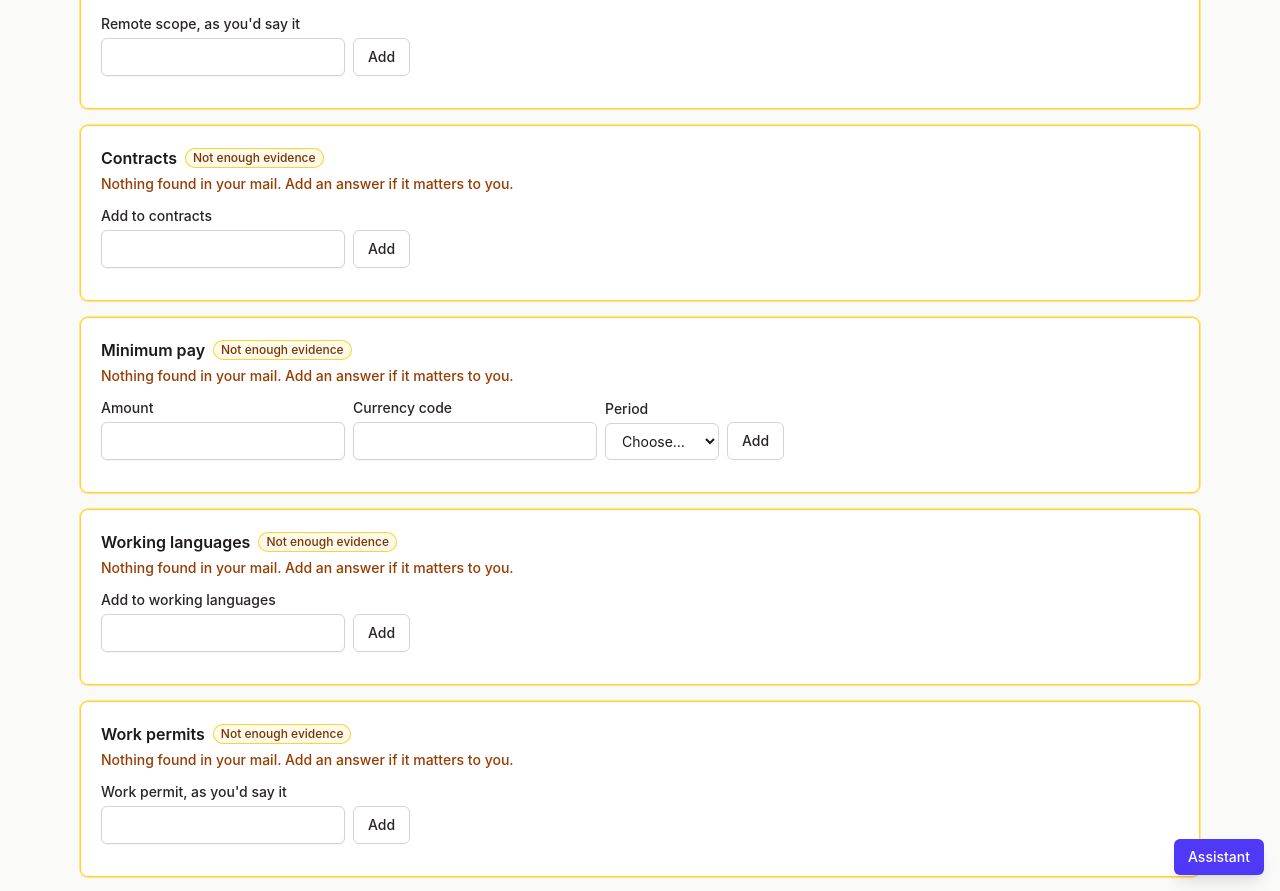
it: corrections (F6.4, S4) › choose no pay period or work mode for the user
(page scrolled)
expect the dropdown labelled "Period" shows "Choose…": met, box 605,423 -> 719,460
Type "450" into the field labelled "Amount". click: (223, 441)
box: 101,422 -> 345,460
Type "EUR" into the field labelled "Currency code". click: (475, 441)
box: 353,422 -> 597,460
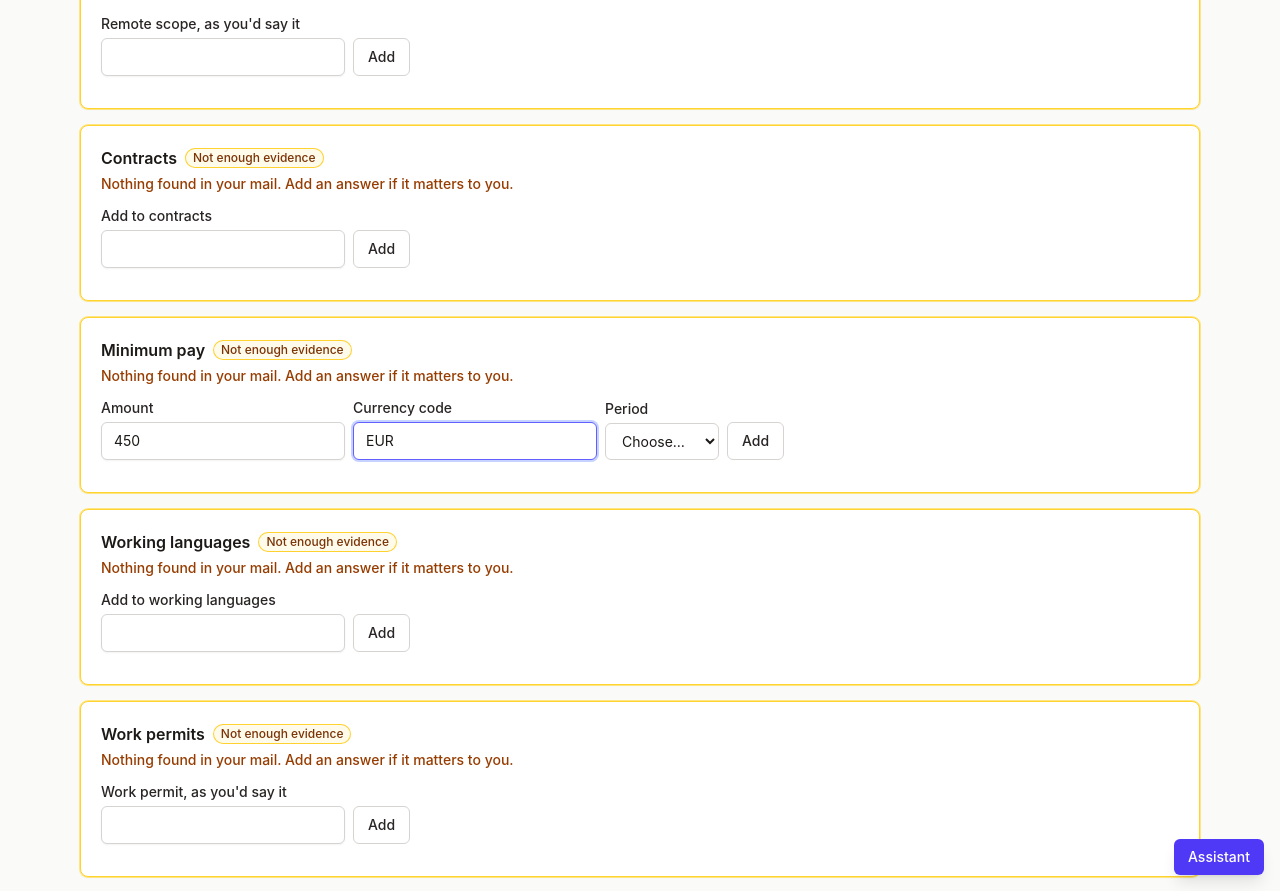
Click the button "Add" below "Period". click: (756, 441)
box: 727,422 -> 784,460
(page scrolled)
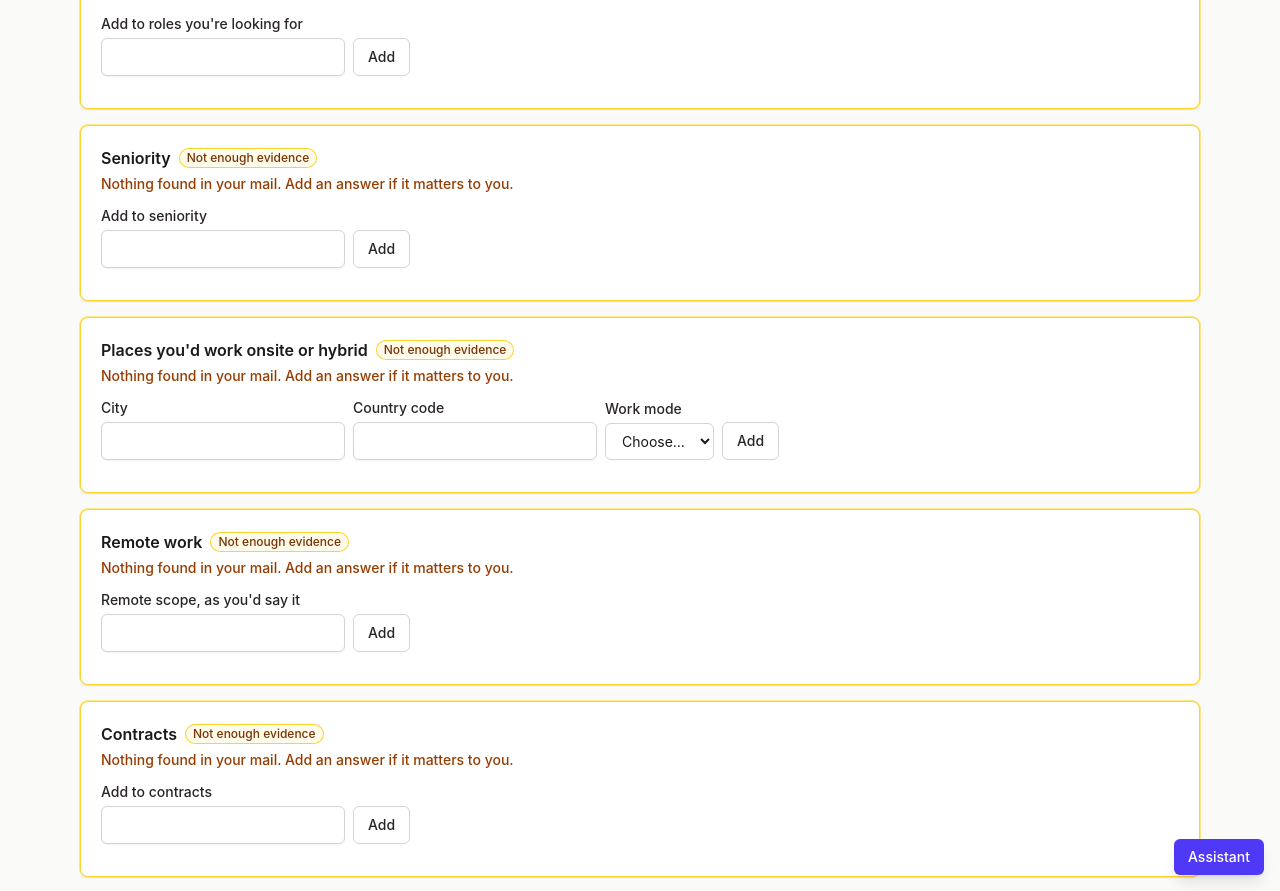
expect the dropdown labelled "Work mode" shows "Choose…": met, box 605,423 -> 714,460
Type "NL" into the field labelled "Country code". click: (475, 441)
box: 353,422 -> 597,460
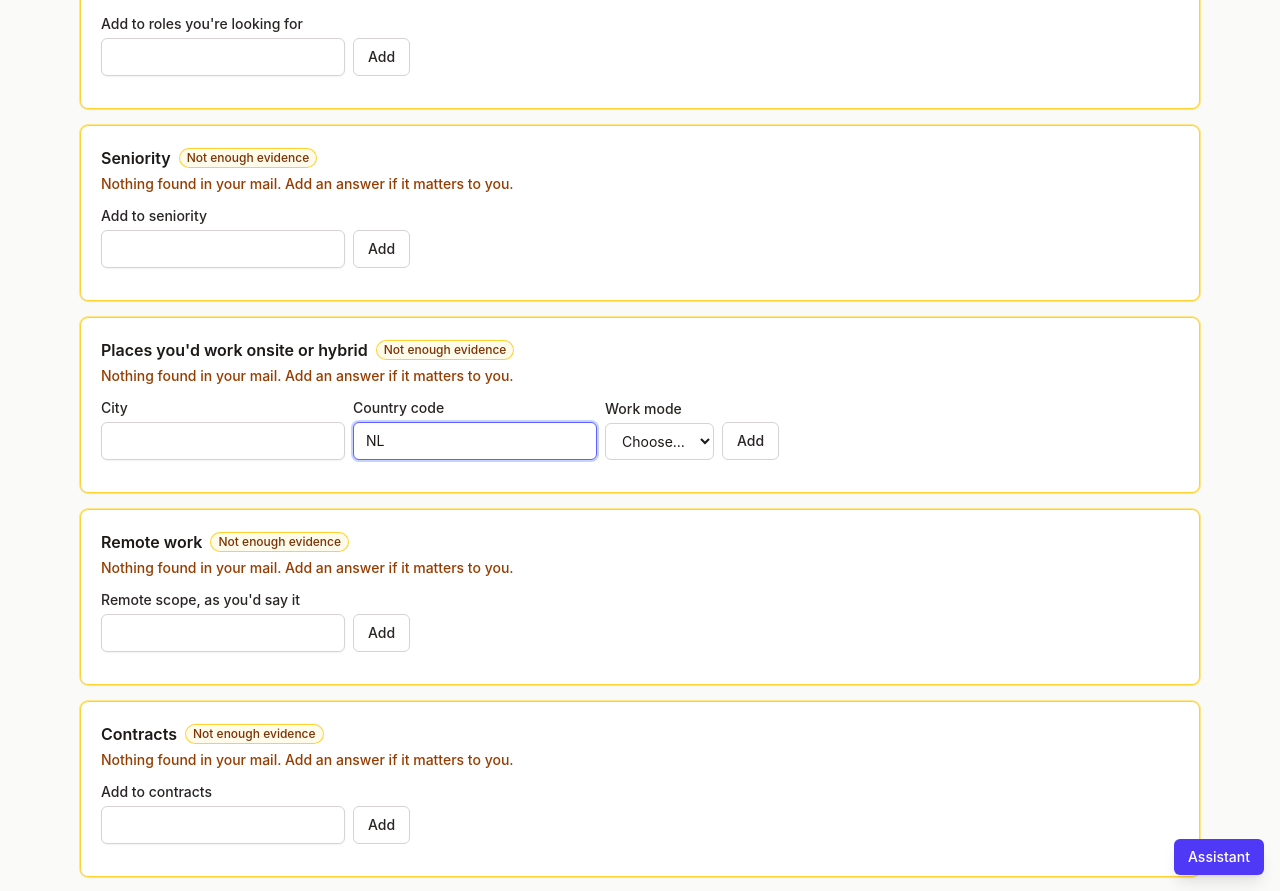
Click the button "Add" below "Work mode". click: (751, 441)
box: 722,422 -> 779,460
(page scrolled)
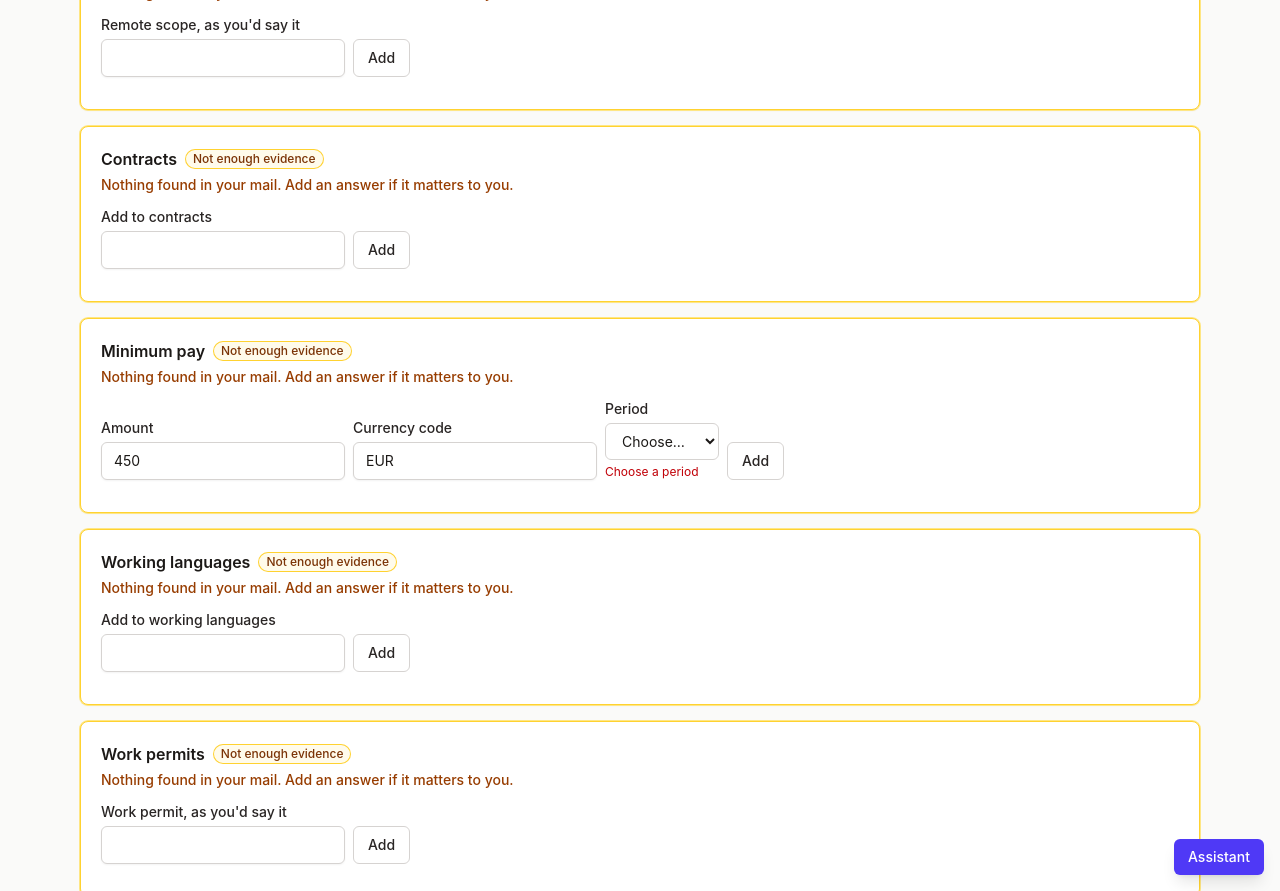
Select "per day" in the dropdown labelled "Period". click: (662, 442)
box: 605,423 -> 719,460
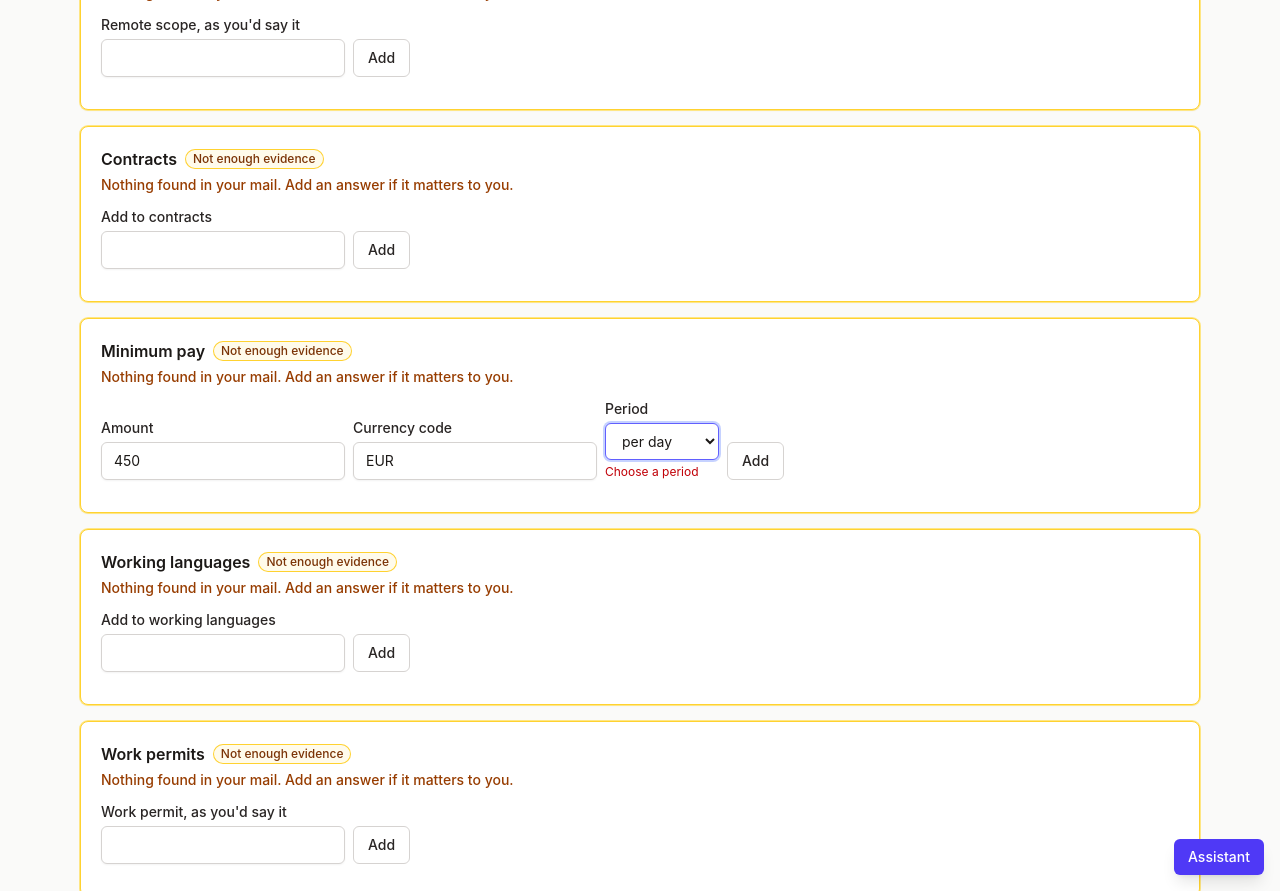
Click the button "Add" next to "Choose a period". click: (756, 461)
box: 727,442 -> 784,480
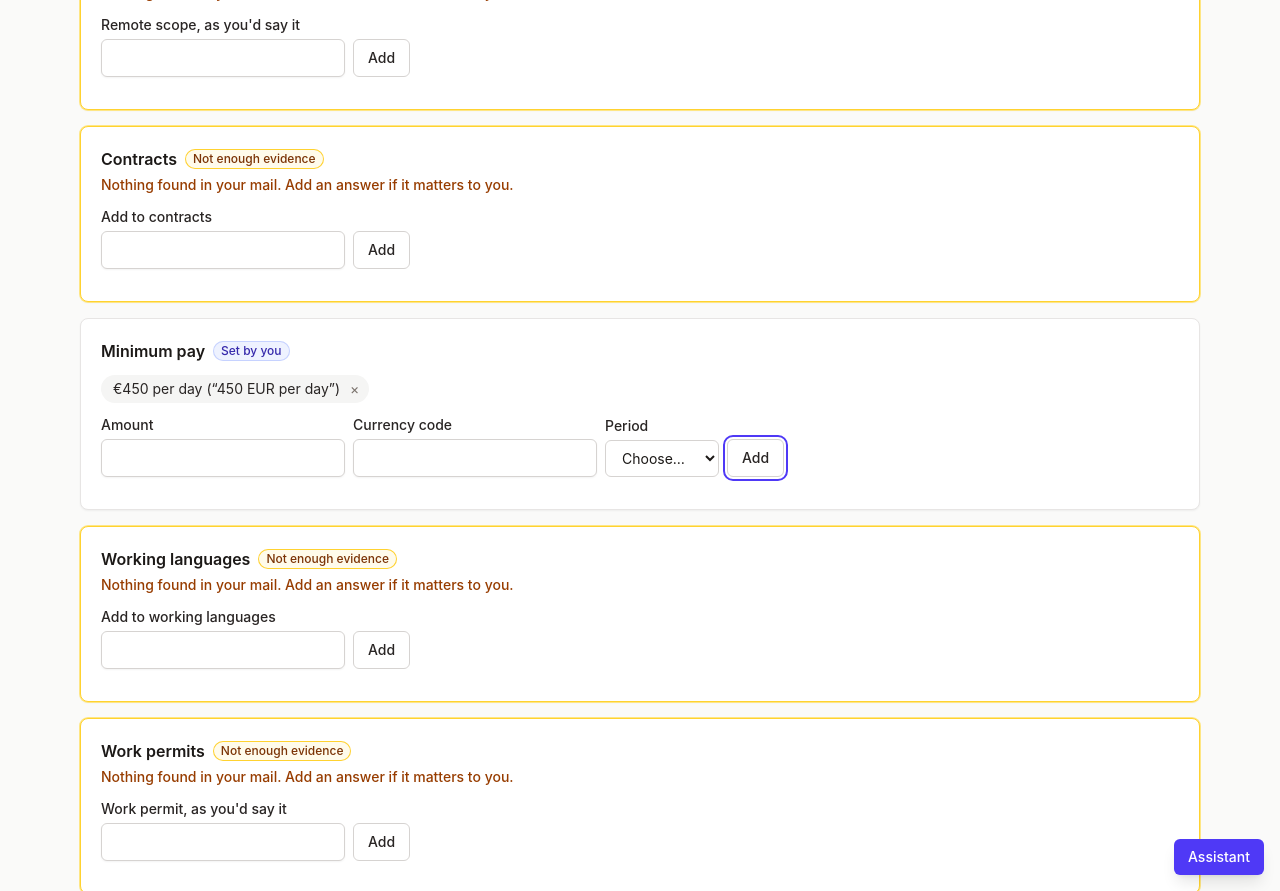
expect the text "Choose a period" is gone: met
